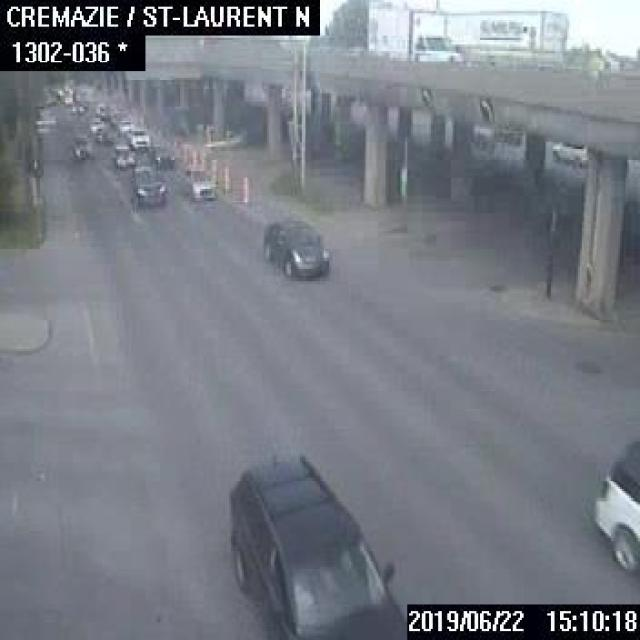construction: (240, 169, 249, 204), (222, 162, 231, 194), (199, 148, 208, 180), (189, 146, 198, 177), (210, 154, 218, 186)
vehicle: (226, 453, 406, 638), (450, 8, 565, 66), (365, 1, 464, 66), (593, 431, 638, 573), (260, 215, 331, 278), (130, 166, 168, 206), (183, 168, 219, 199), (146, 141, 176, 171), (549, 140, 584, 164), (110, 144, 136, 170), (126, 124, 152, 150), (71, 133, 91, 157), (94, 123, 115, 143), (115, 117, 133, 136), (87, 116, 103, 134), (70, 99, 83, 111)
